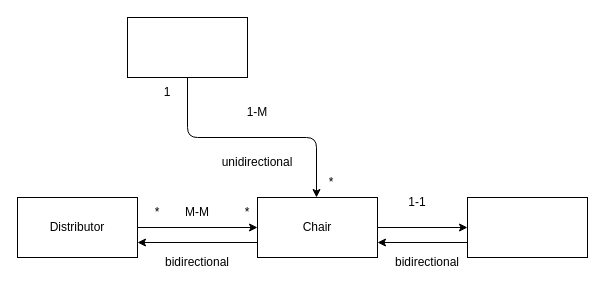
This 605x295 diagram has some shape labels left out. Here are the shapes that lost their labels. From the top down, the centre of each, then its label:
At [187,47]: "Manufacturer".
At [527,227]: "Specification".
